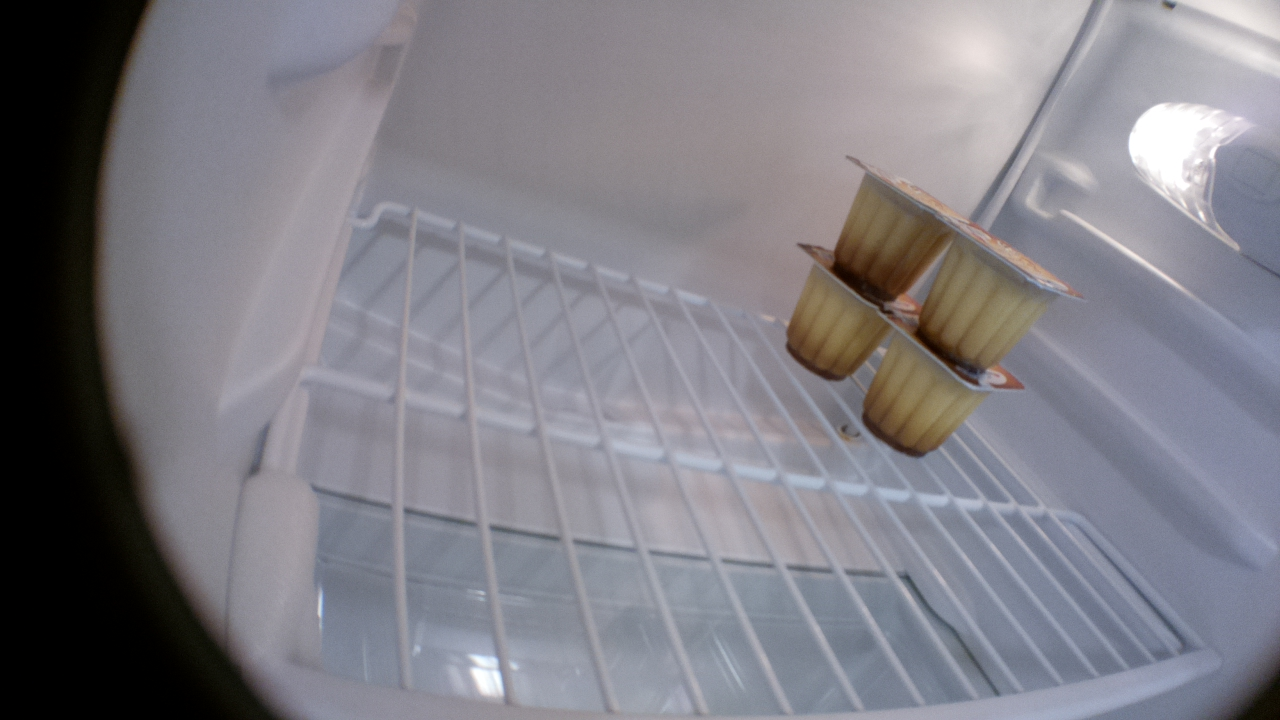caramel: (914, 211, 1089, 373), (860, 297, 1027, 457), (833, 155, 959, 301), (782, 242, 894, 384)
